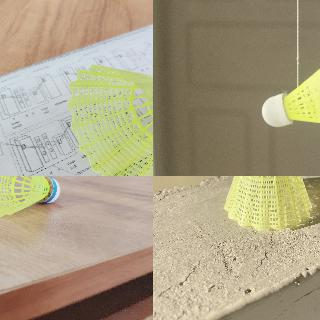shuttlecock: (67, 62, 152, 175), (224, 176, 313, 231), (262, 54, 319, 126), (0, 176, 62, 217)
